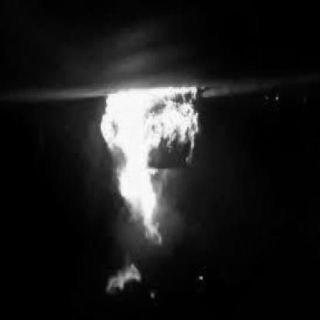Fire: (98, 83, 205, 294)
